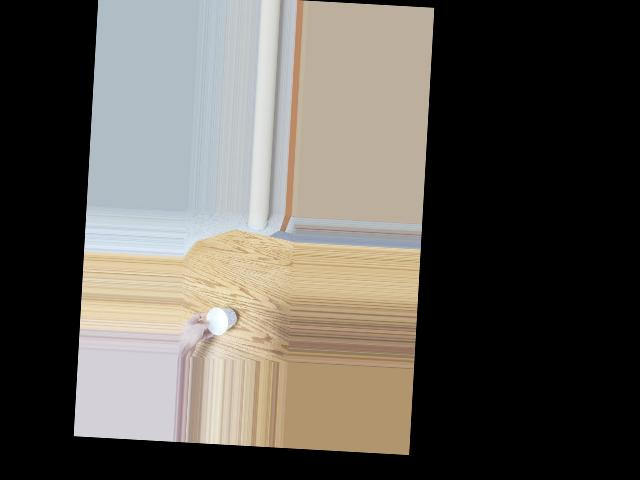cotage: (203, 308, 236, 334)
